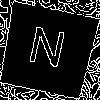N: (23, 25, 68, 79)
